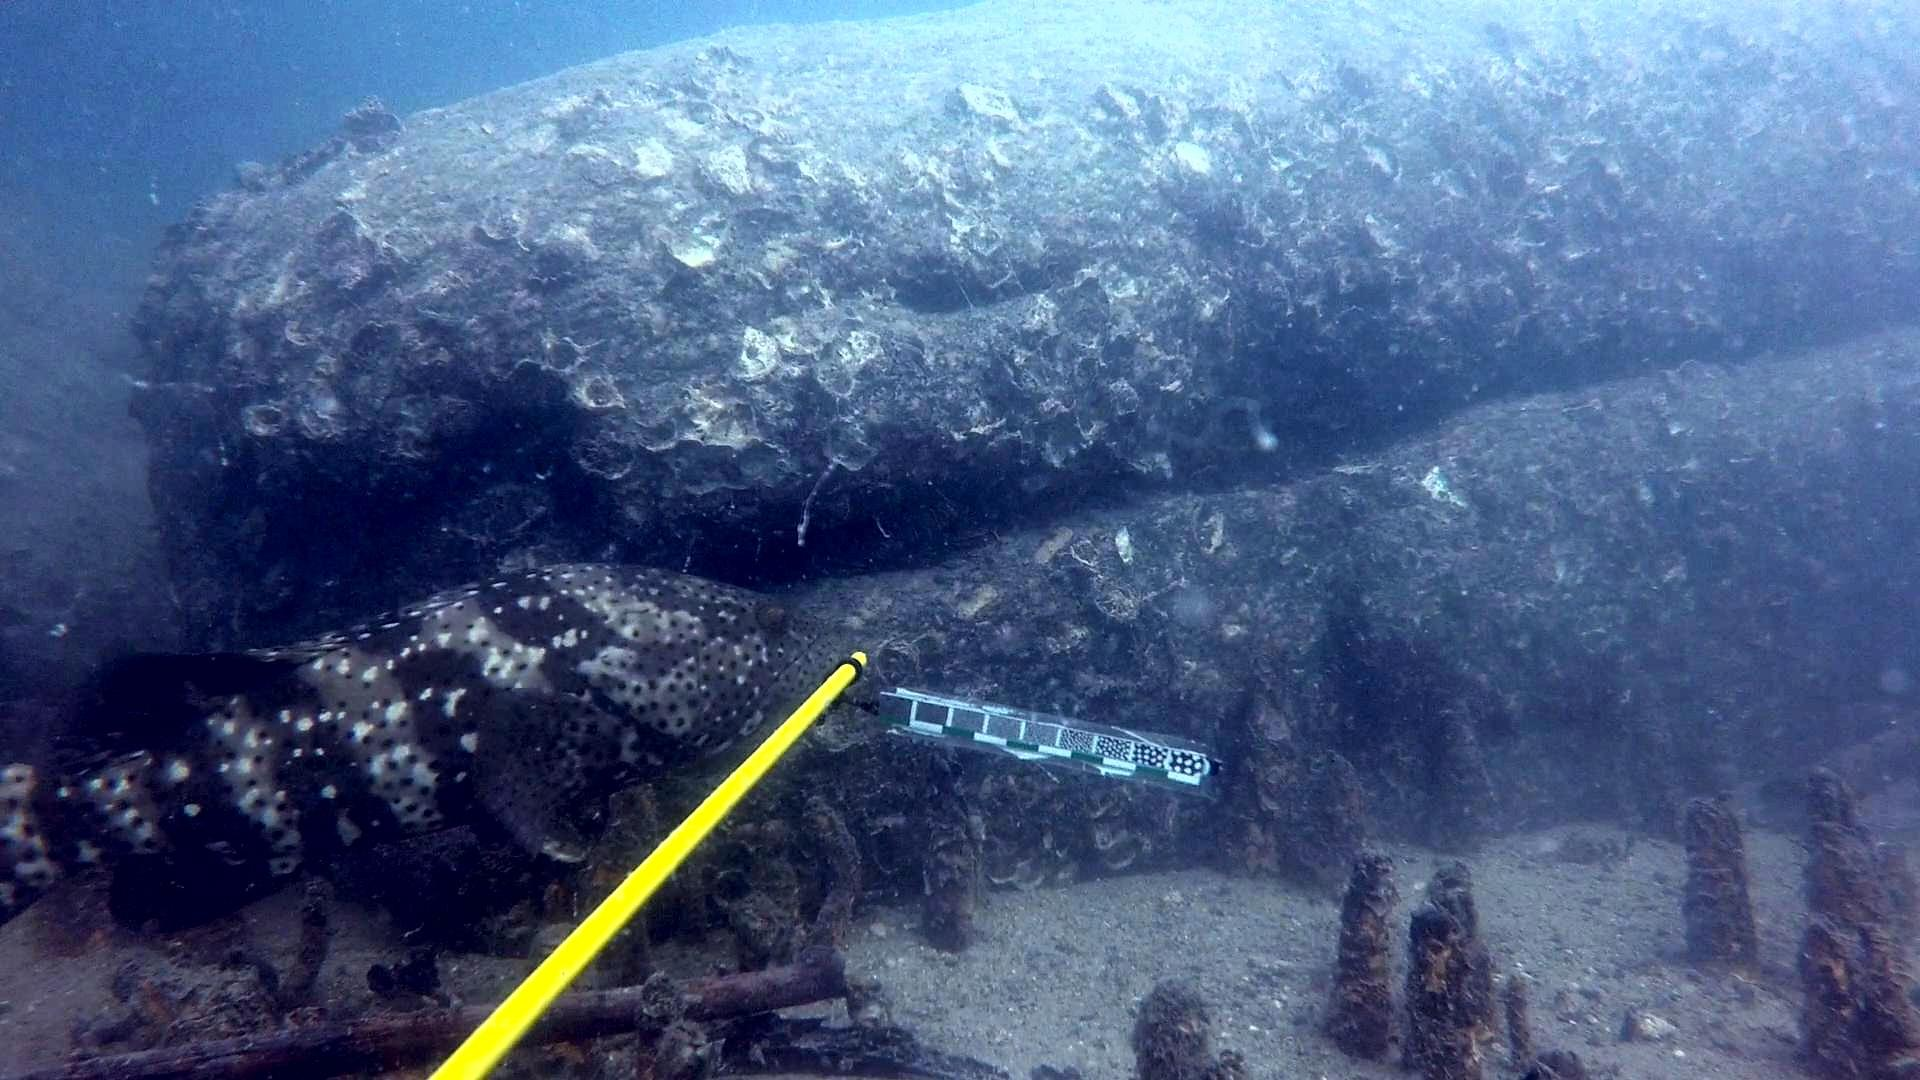epinephelus: (0, 557, 854, 948)
